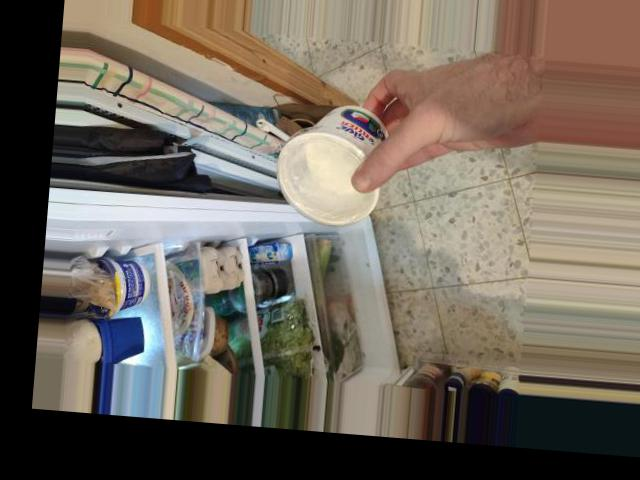cotage: (276, 95, 397, 217)
